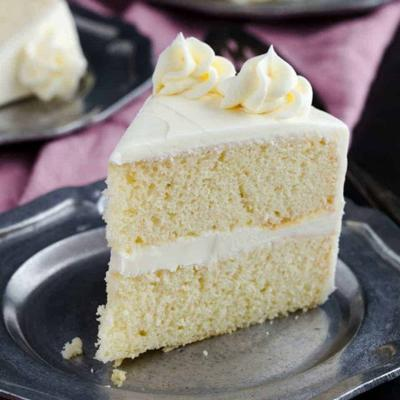cake: (94, 32, 340, 366)
